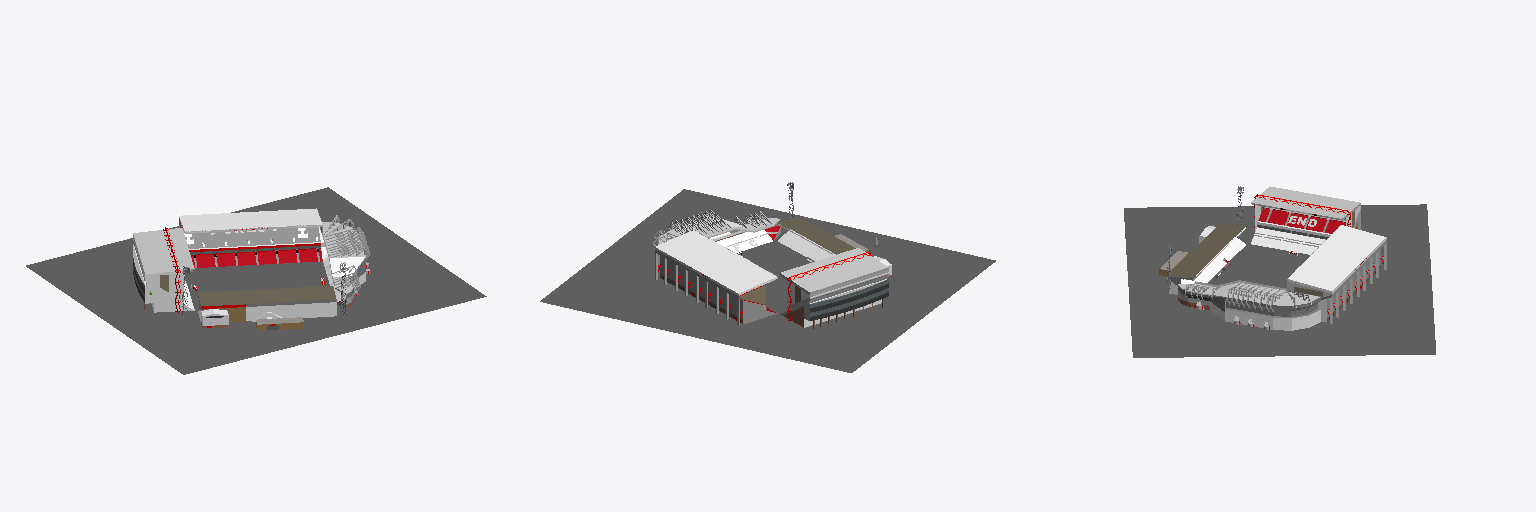
The model's file is City_Ground-Notts.obj.
3 views of the same model, side by side, from view 1: azimuth 30°, elevation 25°; view 2: azimuth 150°, elevation 25°; view 3: azimuth 270°, elevation 25° (orthographic).
Parts seen in each view (by area): view 1: City_Ground-Notts-GRP-Google_Earth_Snapshot-51188-Google_Earth_S, City_Ground-Notts-SKP-Default_Material, City_Ground-Notts-SKP-Material7, City_Ground-Notts-SKP-Material20, City_Ground-Notts-SKP-roof, City_Ground-Notts-SKP-Material3; view 2: City_Ground-Notts-GRP-Google_Earth_Snapshot-51188-Google_Earth_S, City_Ground-Notts-SKP-Default_Material, City_Ground-Notts-SKP-Material7, City_Ground-Notts-SKP-Material21, City_Ground-Notts-SKP-Concrete_Brushed, City_Ground-Notts-SKP-roof, City_Ground-Notts-SKP-Material13, City_Ground-Notts-SKP-Material15, City_Ground-Notts-SKP-Material14; view 3: City_Ground-Notts-GRP-Google_Earth_Snapshot-51188-Google_Earth_S, City_Ground-Notts-SKP-Default_Material, City_Ground-Notts-SKP-Material7, City_Ground-Notts-SKP-roof, City_Ground-Notts-SKP-Material3, City_Ground-Notts-SKP-Metal_Brushed1, City_Ground-Notts-SKP-Material21.
Boxes of the visible parts, x1=… form: City_Ground-Notts-GRP-Google_Earth_Snapshot-51188-Google_Earth_S: x1=26, y1=187, x2=486, y2=374; City_Ground-Notts-SKP-Default_Material: x1=133, y1=208, x2=365, y2=321; City_Ground-Notts-SKP-Material7: x1=133, y1=222, x2=365, y2=294; City_Ground-Notts-SKP-Material20: x1=183, y1=227, x2=320, y2=267; City_Ground-Notts-SKP-roof: x1=198, y1=286, x2=335, y2=306; City_Ground-Notts-SKP-Material3: x1=191, y1=249, x2=345, y2=302; City_Ground-Notts-GRP-Google_Earth_Snapshot-51188-Google_Earth_S: x1=540, y1=189, x2=995, y2=372; City_Ground-Notts-SKP-Default_Material: x1=656, y1=219, x2=886, y2=327; City_Ground-Notts-SKP-Material7: x1=658, y1=218, x2=887, y2=291; City_Ground-Notts-SKP-Material21: x1=655, y1=250, x2=777, y2=323; City_Ground-Notts-SKP-Concrete_Brushed: x1=655, y1=227, x2=887, y2=325; City_Ground-Notts-SKP-roof: x1=778, y1=217, x2=855, y2=254; City_Ground-Notts-SKP-Material13: x1=743, y1=224, x2=888, y2=320; City_Ground-Notts-SKP-Material15: x1=810, y1=283, x2=888, y2=320; City_Ground-Notts-SKP-Material14: x1=810, y1=279, x2=888, y2=316; City_Ground-Notts-GRP-Google_Earth_Snapshot-51188-Google_Earth_S: x1=1124, y1=204, x2=1435, y2=357; City_Ground-Notts-SKP-Default_Material: x1=1169, y1=221, x2=1385, y2=330; City_Ground-Notts-SKP-Material7: x1=1178, y1=186, x2=1359, y2=305; City_Ground-Notts-SKP-roof: x1=1170, y1=223, x2=1246, y2=278; City_Ground-Notts-SKP-Material3: x1=1225, y1=208, x2=1345, y2=268; City_Ground-Notts-SKP-Metal_Brushed1: x1=1171, y1=226, x2=1320, y2=317; City_Ground-Notts-SKP-Material21: x1=1327, y1=240, x2=1386, y2=317.
Bounding box in the file's own units: 296 × 45.38 × 255.